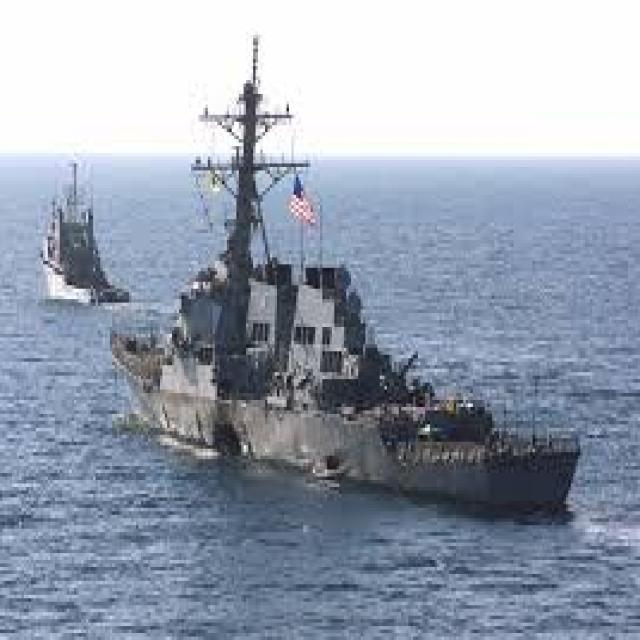navalvessels: (114, 70, 584, 516), (45, 167, 121, 319)
